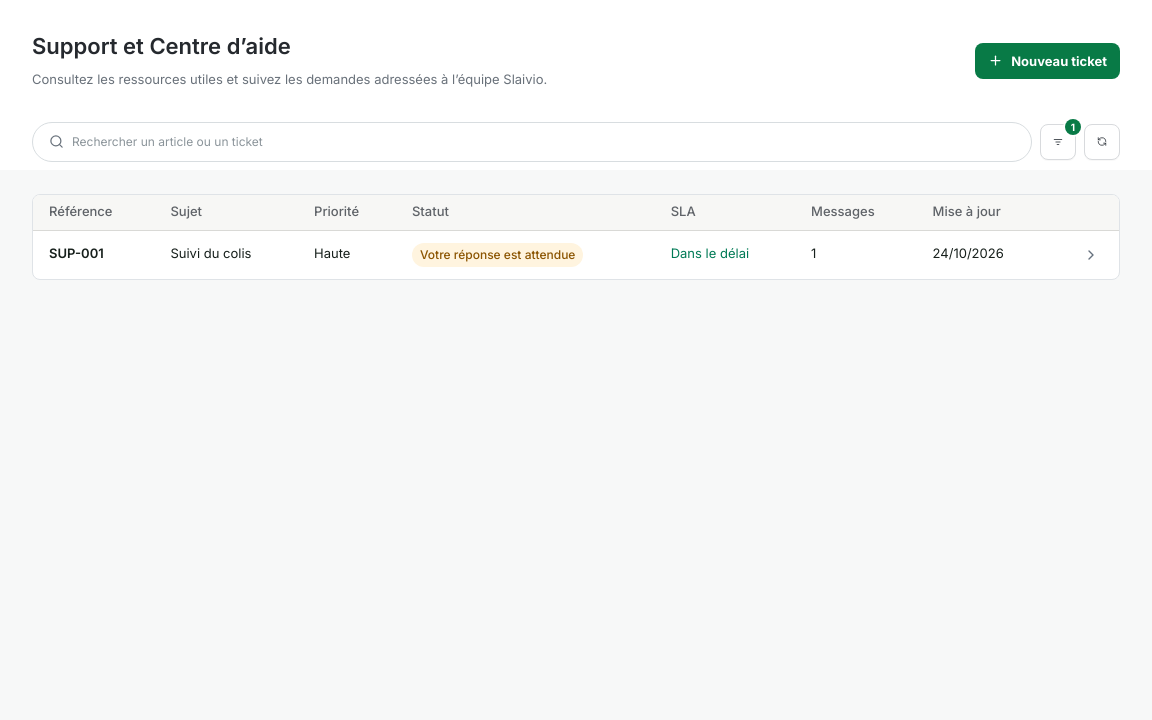
Test: shows understandable status and priority in the ticket sheet
Click the button named "Voir SUP-001": [1091, 255] box [1075, 239, 1107, 271]
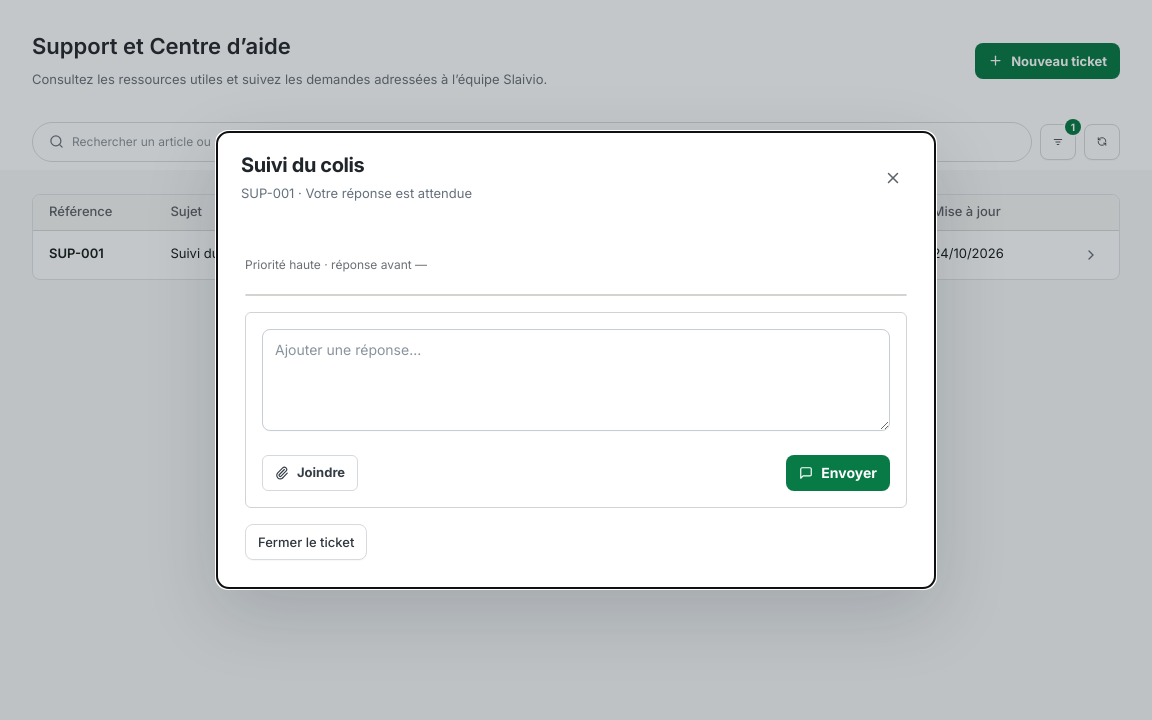
Expected: the dialog "Suivi du colis" shows "Votre réponse est attendue", [241, 186, 472, 202]
Expected: the dialog "Suivi du colis" shows "Priorité haute"
